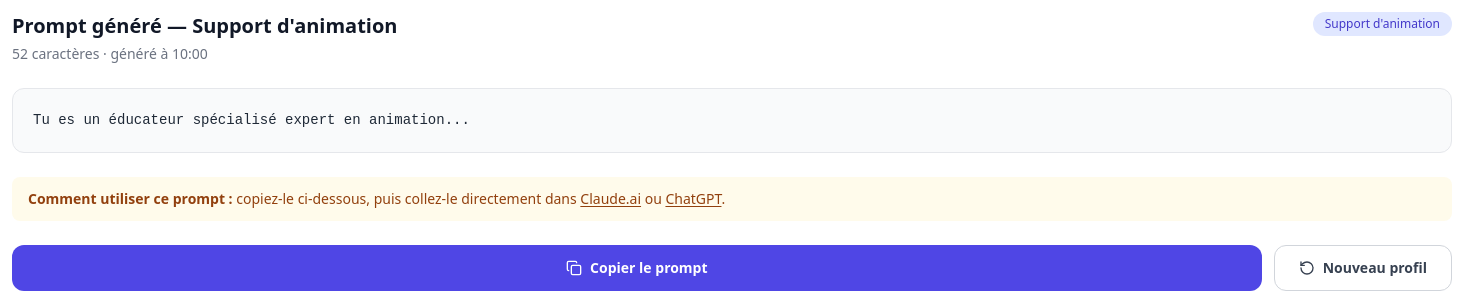
Scenario: PromptResult › affiche 'Prompt copié !' après la copie
Click the button "Copier le prompt".
click(637, 268)  # box [12,245,1262,291]
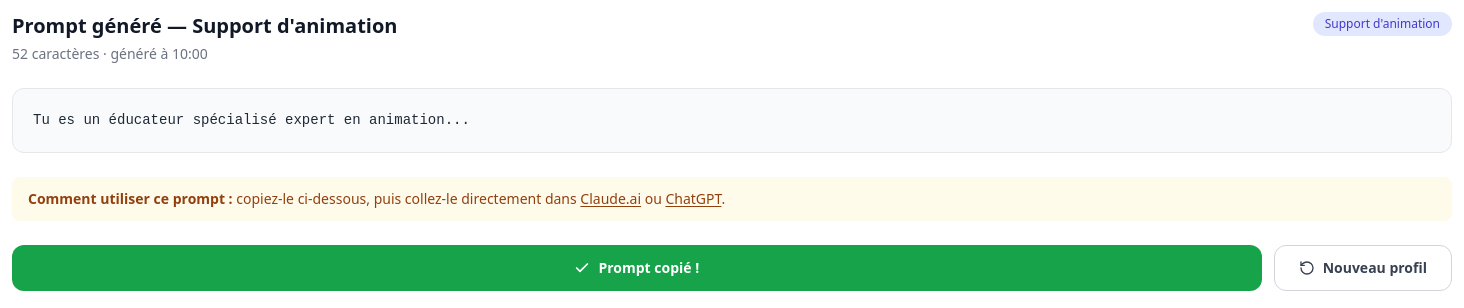
Check: the button "Prompt copié !" is shown, box [12,245,1262,291]
